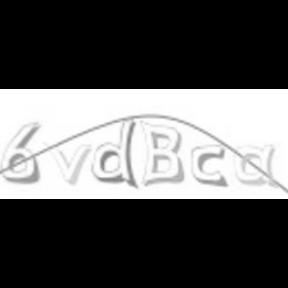6: (1, 120, 44, 184)
B: (136, 118, 186, 190)
a: (235, 141, 279, 189)
c: (188, 142, 230, 186)
d: (91, 116, 139, 190)
v: (44, 139, 92, 187)
